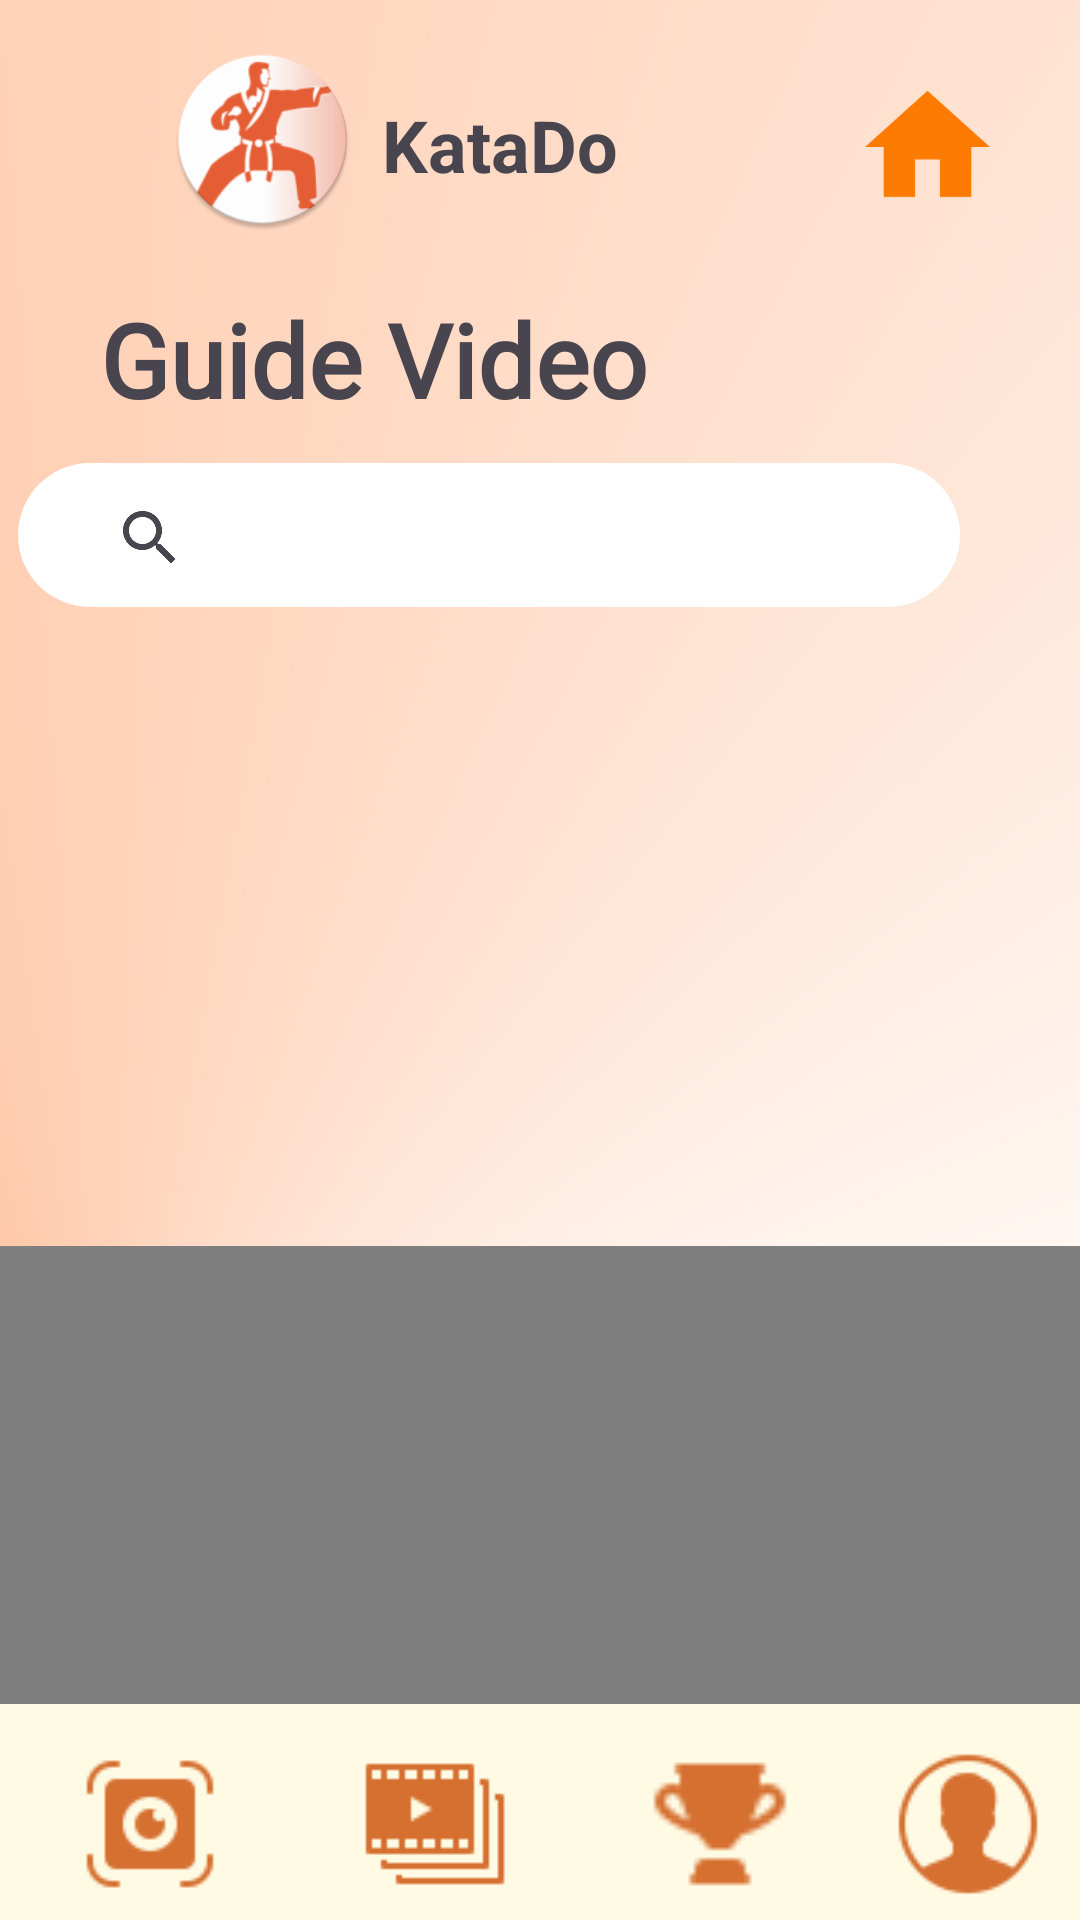

Named icons in this screenshot (1080px×1920px) and their centers, point (x, y):
home: point (927, 144)
profileorange: point (968, 1824)
tropyorange: point (720, 1824)
